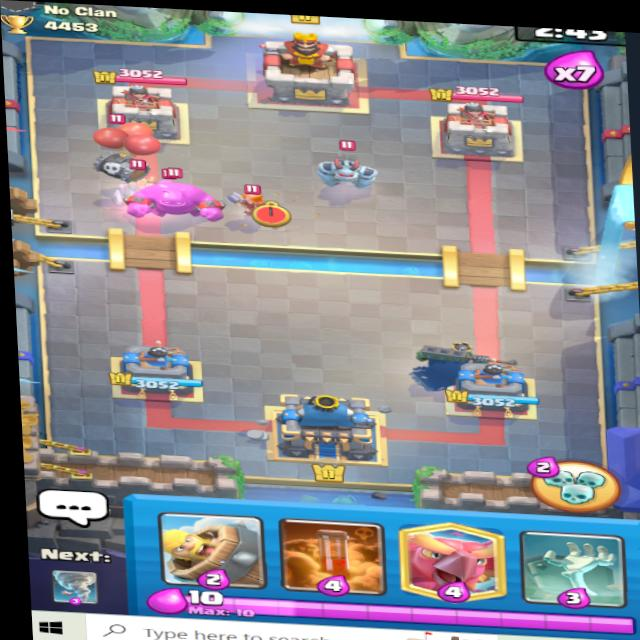electro-golem: (109, 172, 229, 233)
firecracker: (153, 168, 185, 196)
mega-minion: (310, 140, 381, 195)
royal-ghost: (116, 172, 164, 220)
skeleton-barrel: (84, 111, 163, 184)
valkyrie: (216, 173, 295, 228)
